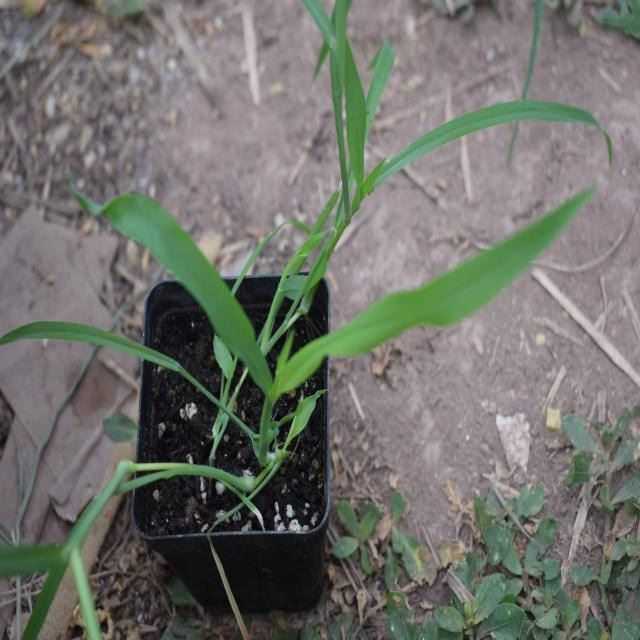crabgrass: (68, 179, 547, 403), (266, 23, 544, 209)
